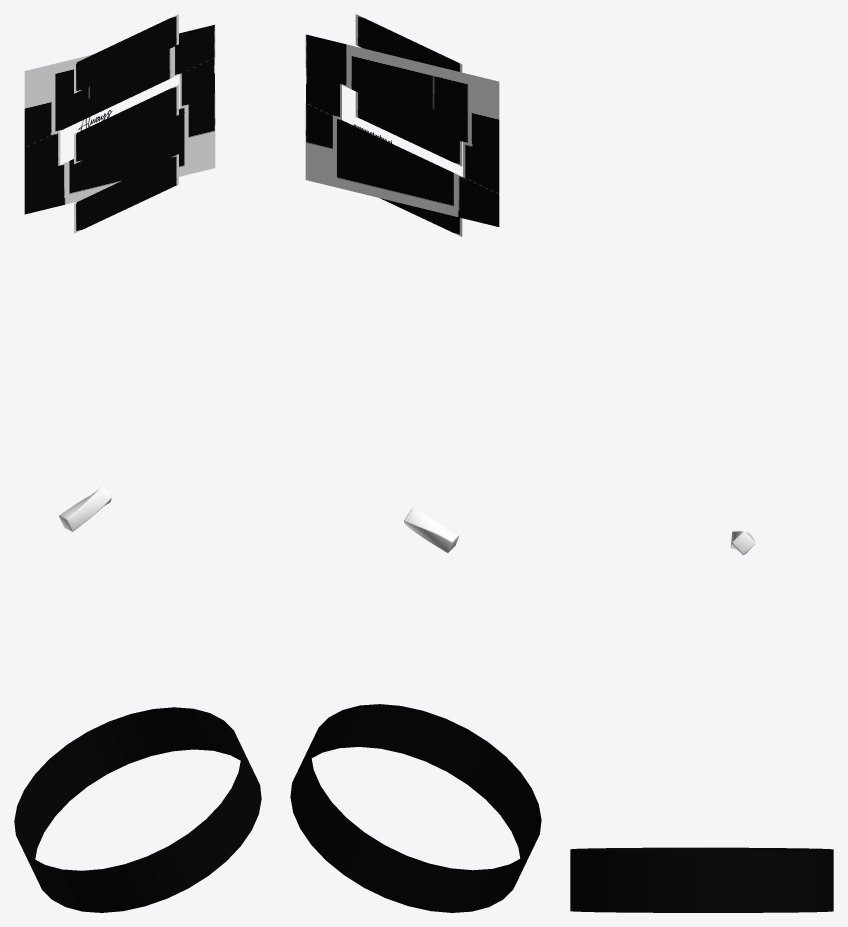
The model's file is section_1.glb.
The picture shows the model from 3 angles, left to right: view 1: azimuth 30°, elevation 25°; view 2: azimuth 150°, elevation 25°; view 3: azimuth 270°, elevation 25°; orthographic projection. The views are drawn at different scales.
Visible parts, largest first — view 1: Flexible, Background, TitleContainer; view 2: Flexible, Background, TitleContainer; view 3: Background.
Boxes of the visible parts, bbox=[...] form: Flexible: bbox=[24, 14, 215, 233]; Background: bbox=[14, 707, 261, 912]; TitleContainer: bbox=[59, 486, 111, 531]; Flexible: bbox=[305, 14, 499, 236]; Background: bbox=[290, 704, 541, 912]; TitleContainer: bbox=[404, 508, 459, 552]; Background: bbox=[570, 847, 833, 912].
Bounding box in the file's own units: 24.79 × 94.41 × 24.59.
6 materials, 3 textured.
